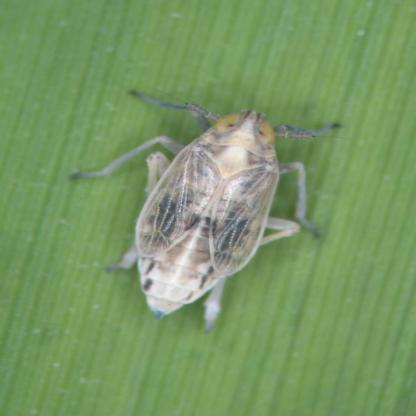brown-planthopper: (118, 114, 316, 316)
